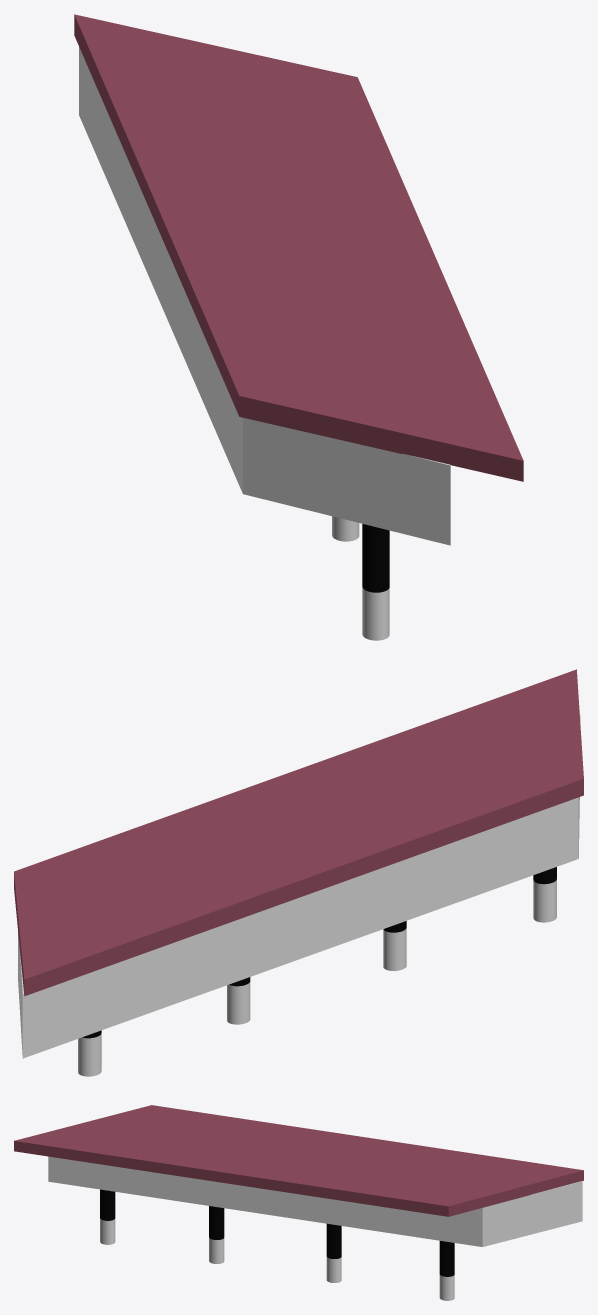
The model's file is gedung.glb.
3 views of the same model, one above another, from view 1: azimuth 30°, elevation 25°; view 2: azimuth 150°, elevation 25°; view 3: azimuth 270°, elevation 25° (orthographic). The views are drawn at different scales.
Parts seen in each view (by area): view 1: Plane.025, Cube.009, Cylinder.064; view 2: Plane.025, Cube.009, Cylinder.064, Cylinder.065, Cylinder.066, Cylinder.067; view 3: Plane.025, Cube.009, Cylinder.067, Cylinder.066, Cylinder.065, Cylinder.064.
Part boxes in pixels (<box>): Plane.025: <box>74,14,523,481</box>; Cube.009: <box>79,47,450,545</box>; Cylinder.064: <box>362,524,389,640</box>; Plane.025: <box>14,669,583,996</box>; Cube.009: <box>18,713,580,1058</box>; Cylinder.064: <box>533,867,556,922</box>; Cylinder.065: <box>383,921,406,970</box>; Cylinder.066: <box>227,977,250,1024</box>; Cylinder.067: <box>78,1030,101,1076</box>; Plane.025: <box>14,1105,583,1216</box>; Cube.009: <box>48,1156,582,1246</box>; Cylinder.067: <box>439,1241,454,1300</box>; Cylinder.066: <box>326,1223,341,1282</box>; Cylinder.065: <box>209,1206,224,1263</box>; Cylinder.064: <box>100,1189,115,1244</box>.
Bounding box in the file's own units: 1.14 × 0.5998 × 2.71.
